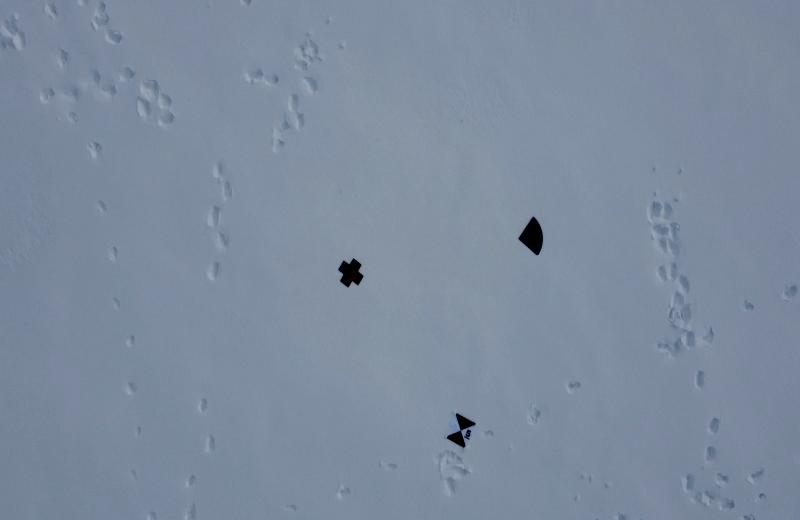Cross: (332, 254, 367, 293)
Quarter Circle: (517, 213, 545, 261)
